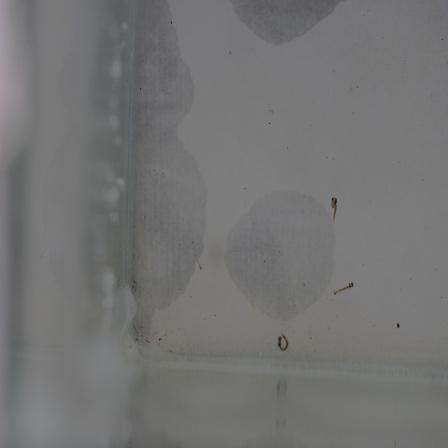Jentik-Nyamuk: (329, 278, 359, 299), (270, 327, 293, 354), (326, 190, 341, 224)
